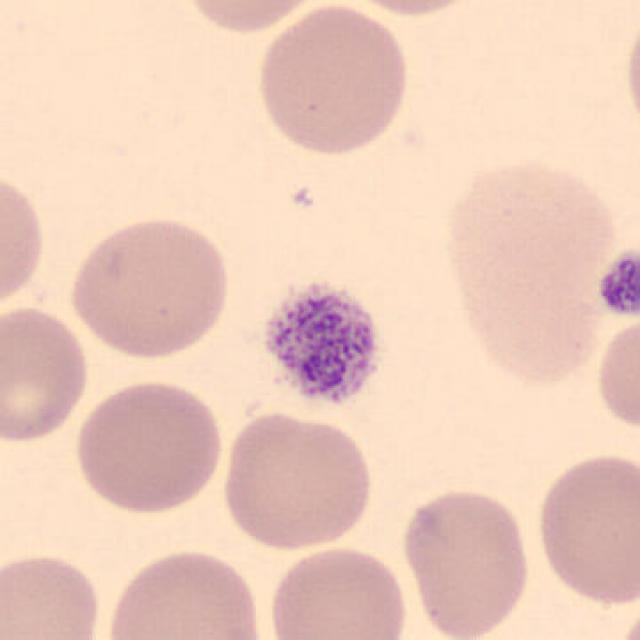Platelets: (252, 275, 388, 418), (594, 245, 640, 321)
RBC: (438, 152, 622, 390), (64, 212, 235, 362), (251, 2, 414, 158), (217, 407, 379, 554), (69, 374, 226, 516), (397, 485, 535, 638), (530, 446, 638, 610), (100, 545, 268, 640), (265, 541, 412, 640), (0, 301, 92, 446), (0, 548, 107, 640), (0, 166, 50, 317), (175, 0, 332, 37), (592, 312, 638, 437), (330, 0, 492, 18), (620, 2, 640, 143), (612, 599, 638, 640)
